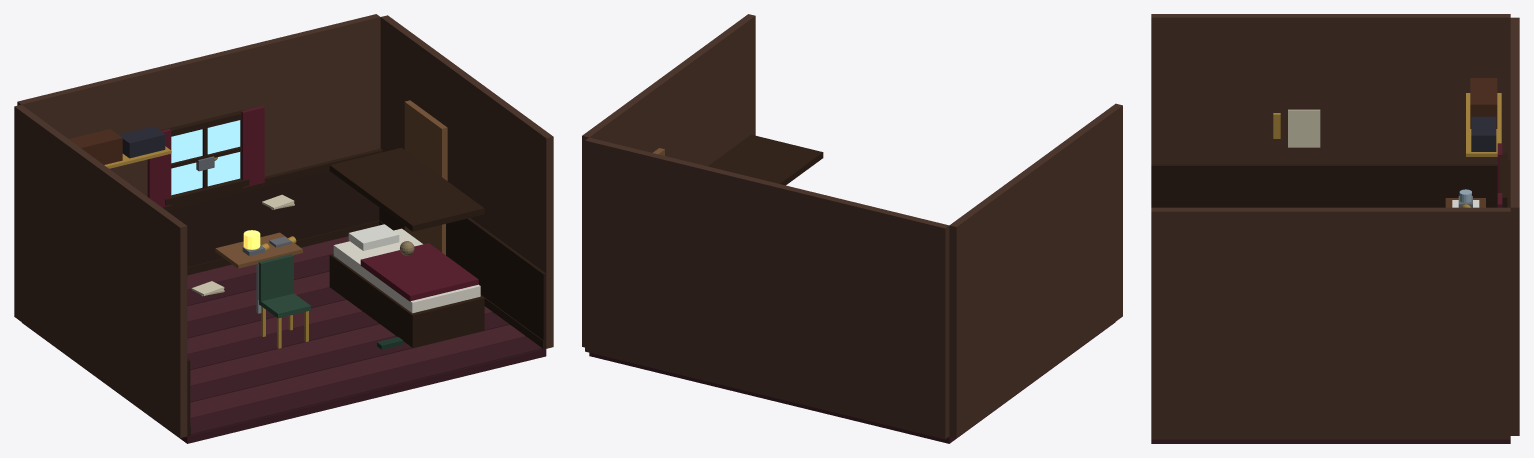
File: compartment.glb
The picture shows the model from 3 angles, left to right: view 1: azimuth 30°, elevation 25°; view 2: azimuth 150°, elevation 25°; view 3: azimuth 270°, elevation 25°; orthographic projection. The views are drawn at different scales.
Visible parts, largest first — view 1: WallLeft, WallBack, WallRight, BandBack, UpperBunk, BandRight, Plank0, Plank1, BunkBase, Blanket, Plank2, CWinGlass (+23 smaller); view 2: WallBack, WallLeft, WallRight, UpperBunk, Floor; view 3: WallRight, WallLeft, BandLeft, WallBack, Floor, P_h_nightcap_note, Case1, Case2, RackShelf, CWinFrameT.
Part boxes in pixels (left/top/right/bottom): WallLeft: left=14, top=104, right=187, bottom=437; WallBack: left=17, top=14, right=380, bottom=196; WallRight: left=380, top=15, right=553, bottom=348; BandBack: left=167, top=171, right=379, bottom=266; UpperBunk: left=329, top=147, right=484, bottom=231; BandRight: left=379, top=207, right=546, bottom=340; Plank0: left=190, top=337, right=542, bottom=434; Plank1: left=190, top=324, right=525, bottom=418; BunkBase: left=329, top=254, right=484, bottom=348; Blanket: left=360, top=243, right=478, bottom=301; Plank2: left=190, top=312, right=509, bottom=402; CWinGlass: left=171, top=120, right=240, bottom=195; WallBack: left=585, top=137, right=949, bottom=439; WallLeft: left=949, top=103, right=1122, bottom=437; WallRight: left=582, top=14, right=755, bottom=347; UpperBunk: left=708, top=134, right=823, bottom=185; Floor: left=589, top=322, right=1115, bottom=443; WallRight: left=1151, top=207, right=1510, bottom=439; WallLeft: left=1151, top=14, right=1510, bottom=164; BandLeft: left=1151, top=164, right=1497, bottom=207; WallBack: left=1510, top=17, right=1519, bottom=435; Floor: left=1151, top=439, right=1510, bottom=443; P_h_nightcap_note: left=1288, top=109, right=1320, bottom=147; Case1: left=1470, top=78, right=1497, bottom=128; Case2: left=1471, top=116, right=1496, bottom=151; RackShelf: left=1466, top=93, right=1501, bottom=156; CWinFrameT: left=1500, top=153, right=1507, bottom=203.
Bounding box in the file's own units: 5.2 × 2.9 × 4.1.
